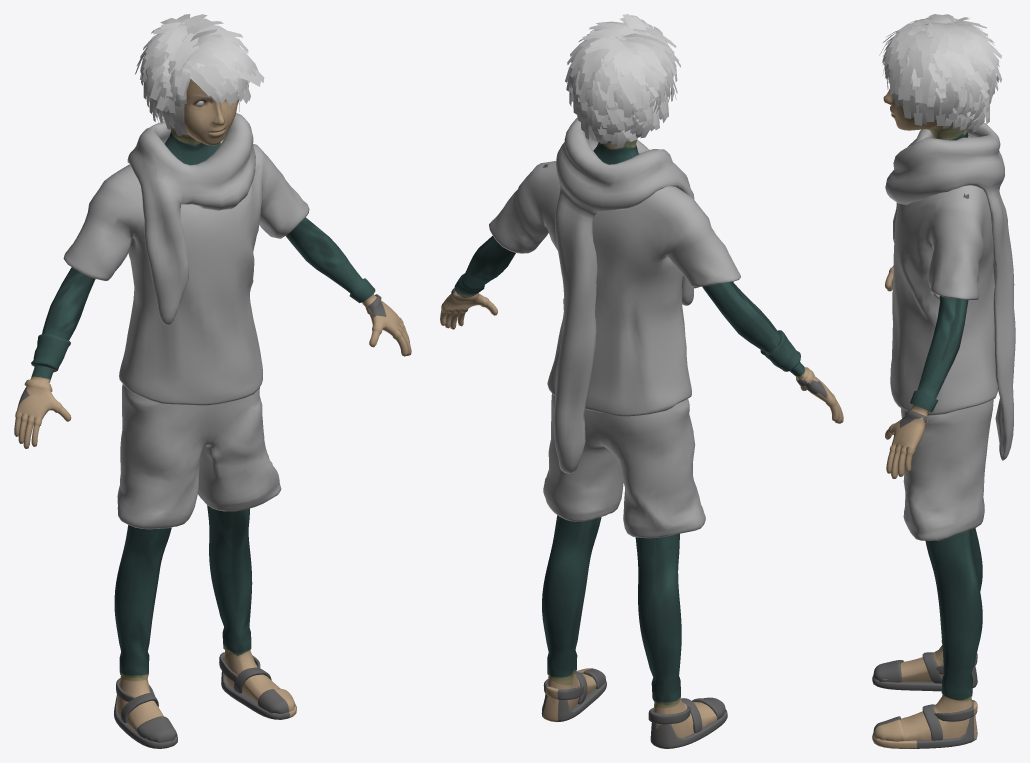
File: boy_FINAL.fbx
3 views of the same model, side by side, from view 1: azimuth 30°, elevation 25°; view 2: azimuth 150°, elevation 25°; view 3: azimuth 270°, elevation 25° (orthographic).
Parts seen in each view (by area): view 1: shorts_lp:polySurface3, polySurface6, halsduk_lp, polySurface75; view 2: shorts_lp:polySurface3, polySurface6, halsduk_lp, polySurface75; view 3: shorts_lp:polySurface3, polySurface6, halsduk_lp, polySurface75.
Part boxes in pixels (bbox=[...]): shorts_lp:polySurface3: bbox=[63, 140, 309, 529]; polySurface6: bbox=[14, 79, 411, 748]; halsduk_lp: bbox=[127, 113, 255, 325]; polySurface75: bbox=[135, 14, 264, 136]; shorts_lp:polySurface3: bbox=[489, 161, 740, 538]; polySurface6: bbox=[440, 33, 843, 748]; halsduk_lp: bbox=[554, 117, 694, 473]; polySurface75: bbox=[565, 14, 680, 148]; shorts_lp:polySurface3: bbox=[890, 136, 997, 540]; polySurface6: bbox=[872, 24, 982, 748]; halsduk_lp: bbox=[885, 122, 1015, 460]; polySurface75: bbox=[879, 14, 1001, 132].
Size of the model in its own units: 36.12 by 60.32 by 11.35.
